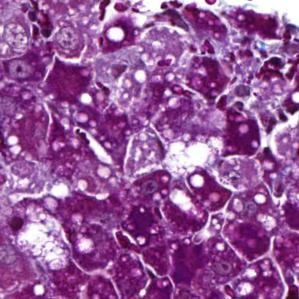ballooning: (8, 198, 73, 272)
